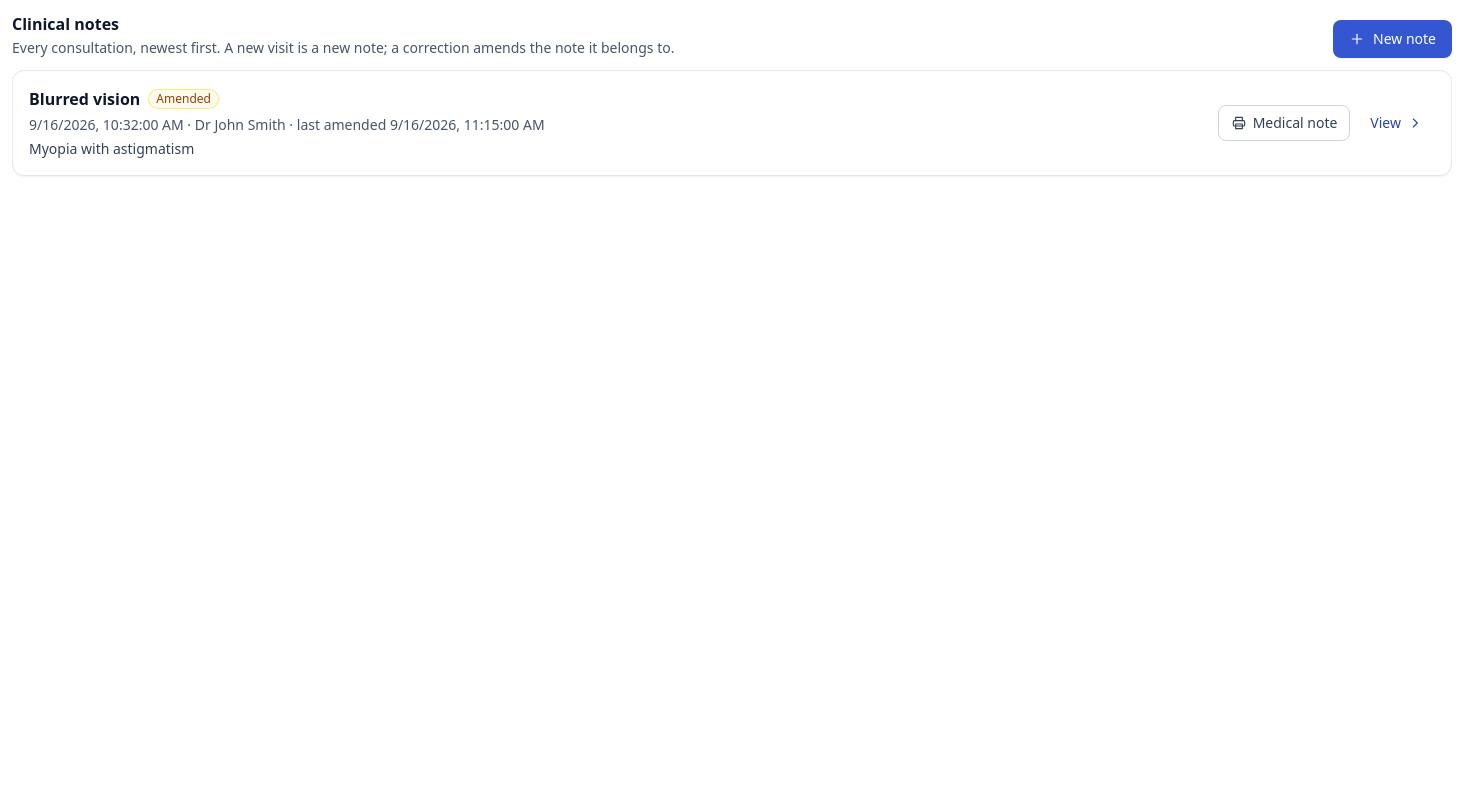
Test case: amending a note › reads the trail back: what changed, by whom, and why
The width and height of the screenshot is (1464, 808).
Click the button "Blurred vision".
click(85, 99)  # box x1=29 y1=87 x2=1206 y2=159
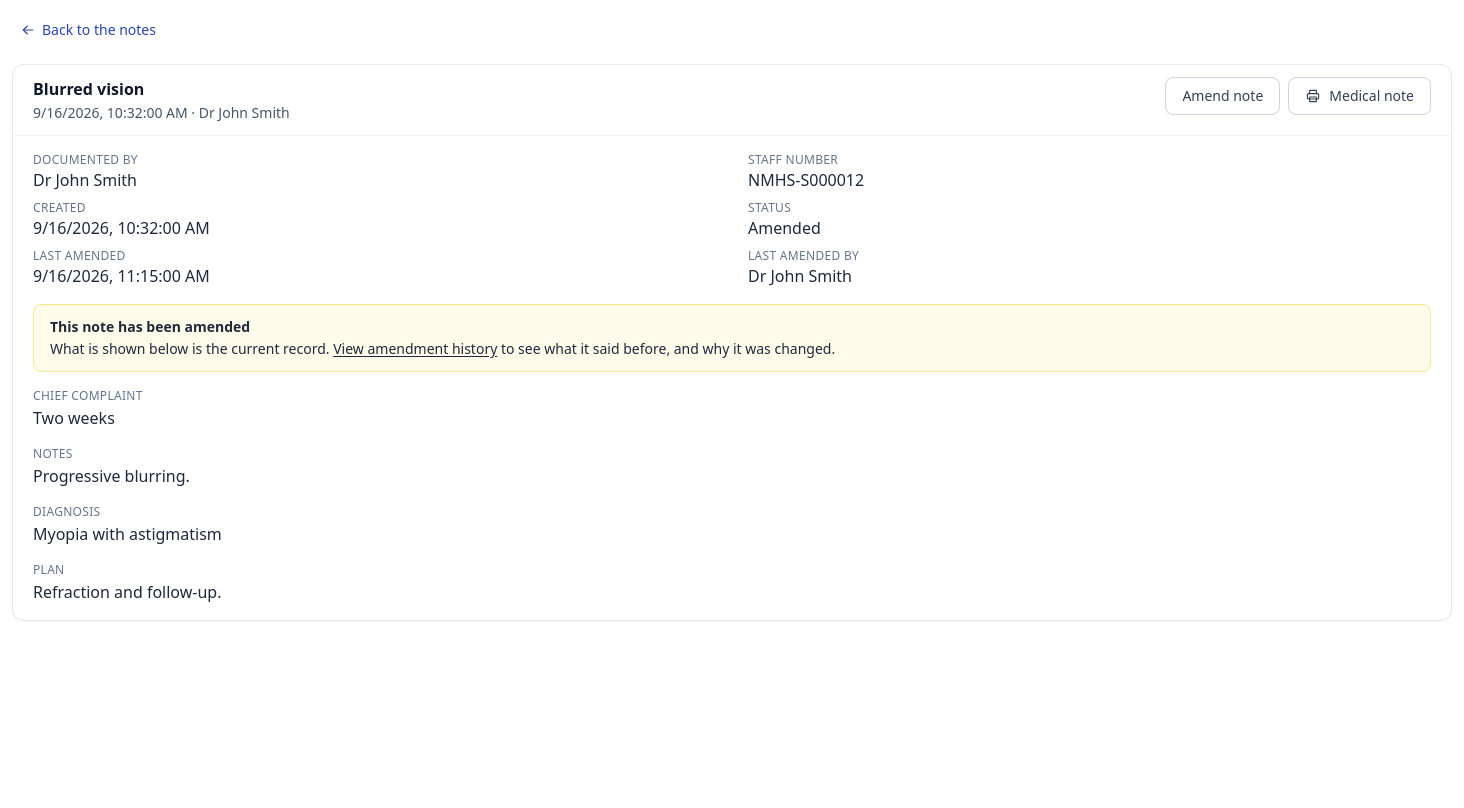
Click the button "View amendment history".
click(415, 349)  # box x1=333 y1=339 x2=497 y2=359
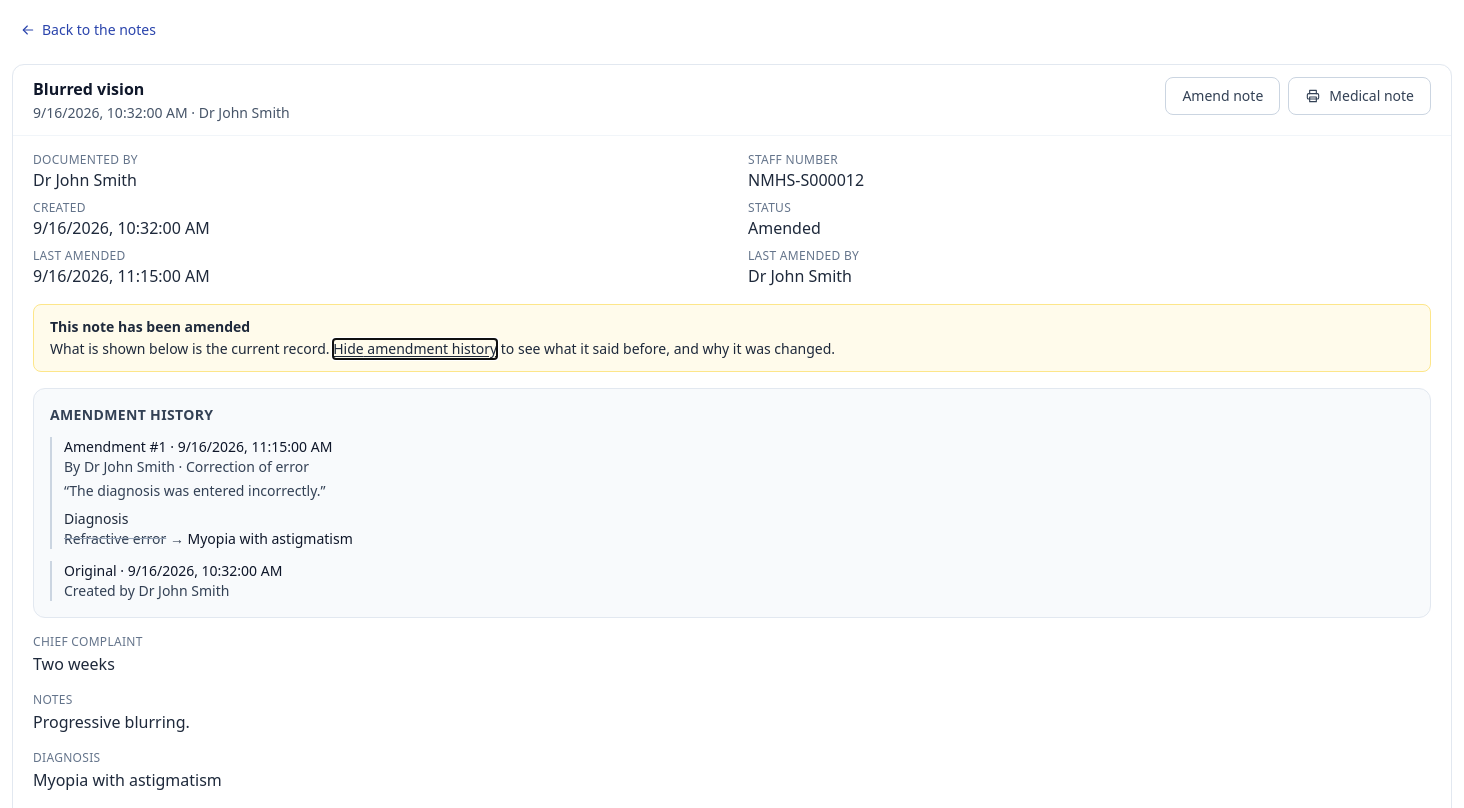
Expected: the text "Refractive error" is shown, x1=64 y1=529 x2=166 y2=548
Expected: the text "Myopia with astigmatism" next to "Refractive error" is shown, x1=188 y1=529 x2=353 y2=548
Expected: the text "By Dr John Smith · Correction of error" is shown, x1=64 y1=457 x2=309 y2=476
